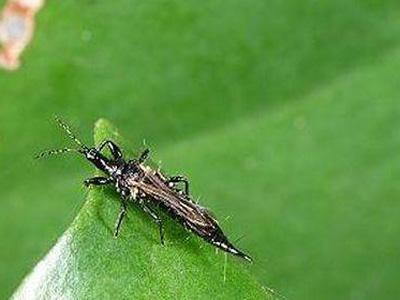Phlaeothripidae: (32, 111, 256, 263)
